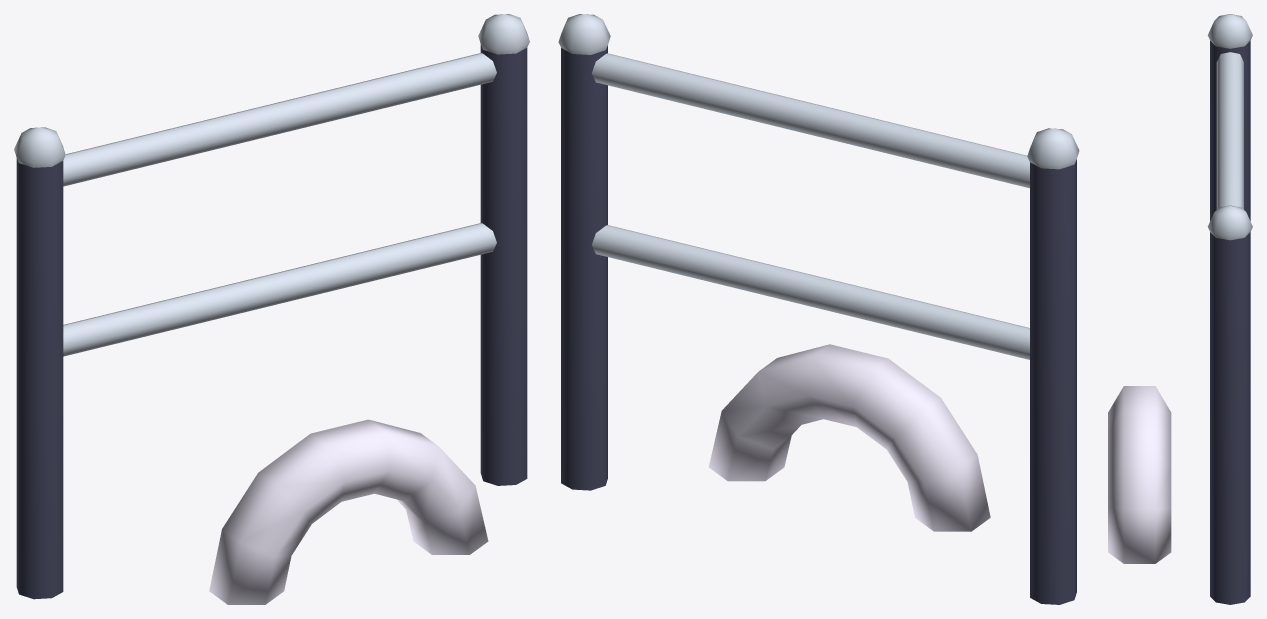
File: arena_rail.glb
3 views of the same model, side by side, from view 1: azimuth 30°, elevation 25°; view 2: azimuth 150°, elevation 25°; view 3: azimuth 270°, elevation 25° (orthographic). The views are drawn at different scales.
Visible parts, largest first — view 1: Rail; view 2: Rail; view 3: Rail.
Part boxes in pixels (x1=…): Rail: x1=14, y1=14, x2=529, y2=604; Rail: x1=558, y1=14, x2=1079, y2=604; Rail: x1=1108, y1=14, x2=1252, y2=604.
Size of the model in its own units: 1.1 by 0.95 by 0.32.
